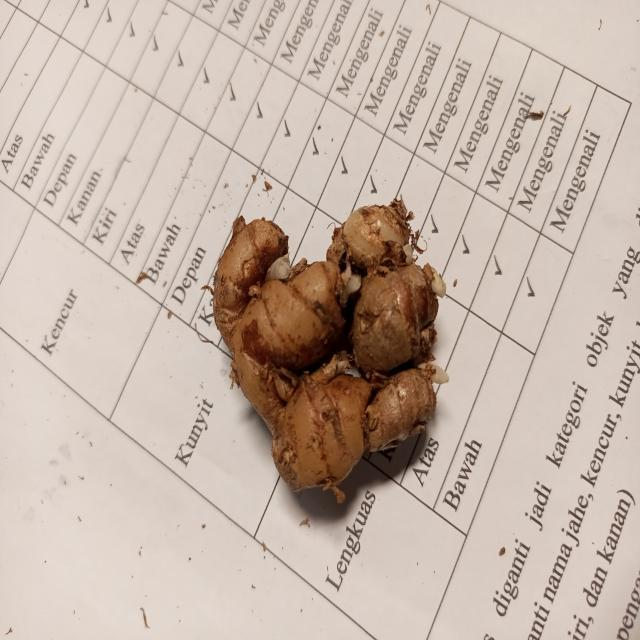ginger: (222, 220, 438, 458)
